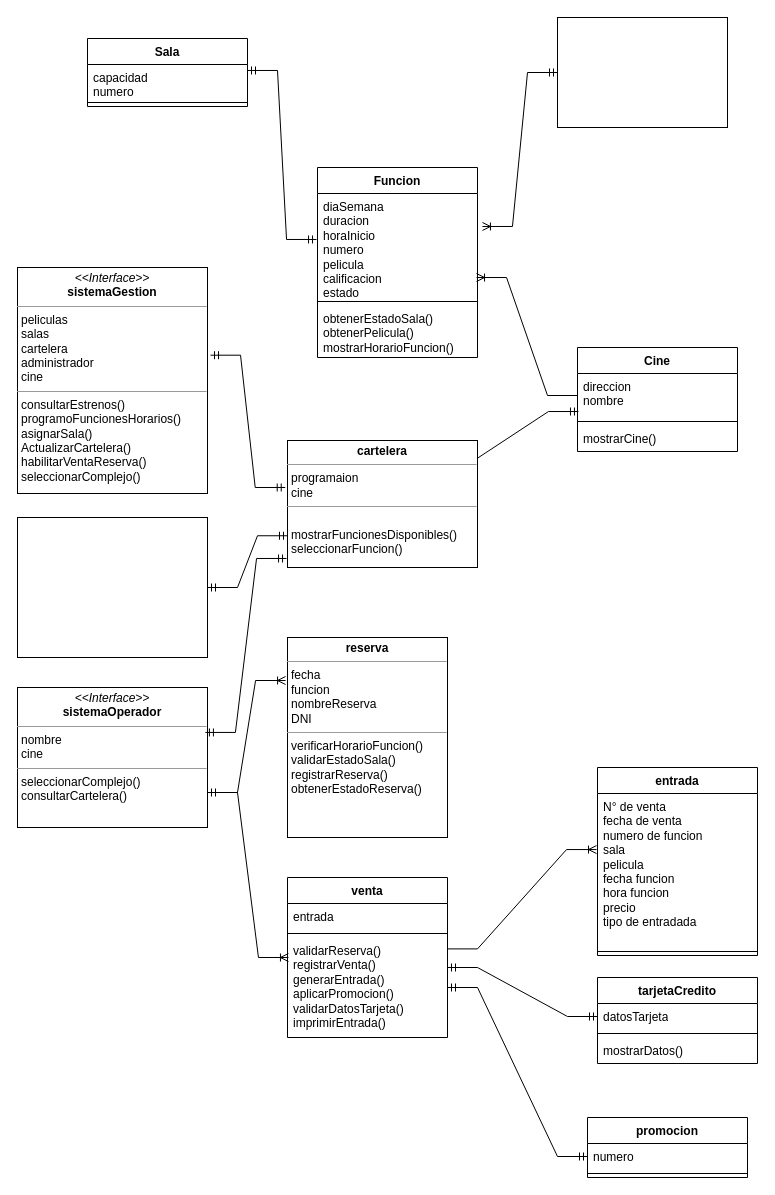
This 775x1195 diagram has some shape labels left out. The centre of each missing label's shape, as x and y in pixels:
<<Interface>> paginaWeb cine seleccionarComplejo() consultarCartelera(): (112,587)
pelicula nombre duracion fechaDeEstreno mostrarInformacionPelicula(): (642,72)
